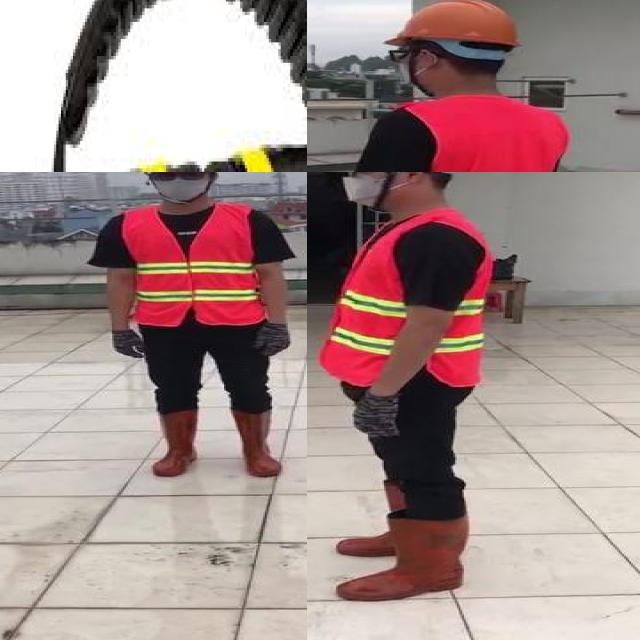boots: (333, 518, 467, 602), (233, 409, 286, 475), (153, 410, 201, 476)
face_mask: (335, 172, 413, 208), (145, 172, 216, 202)
glasses: (143, 172, 216, 184)
hand_glove: (346, 390, 406, 437), (250, 322, 292, 356), (110, 327, 142, 359)
head_helmet: (383, 0, 520, 47)
person: (307, 172, 503, 610), (90, 172, 300, 487), (328, 0, 564, 172)
vest: (324, 211, 494, 387), (123, 206, 265, 325), (391, 92, 569, 172)
